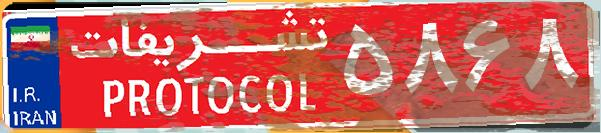5: (340, 20, 400, 115)
6: (460, 20, 520, 115)
8: (400, 20, 460, 115), (520, 20, 580, 115)
تشریفات: (60, 8, 340, 125)
